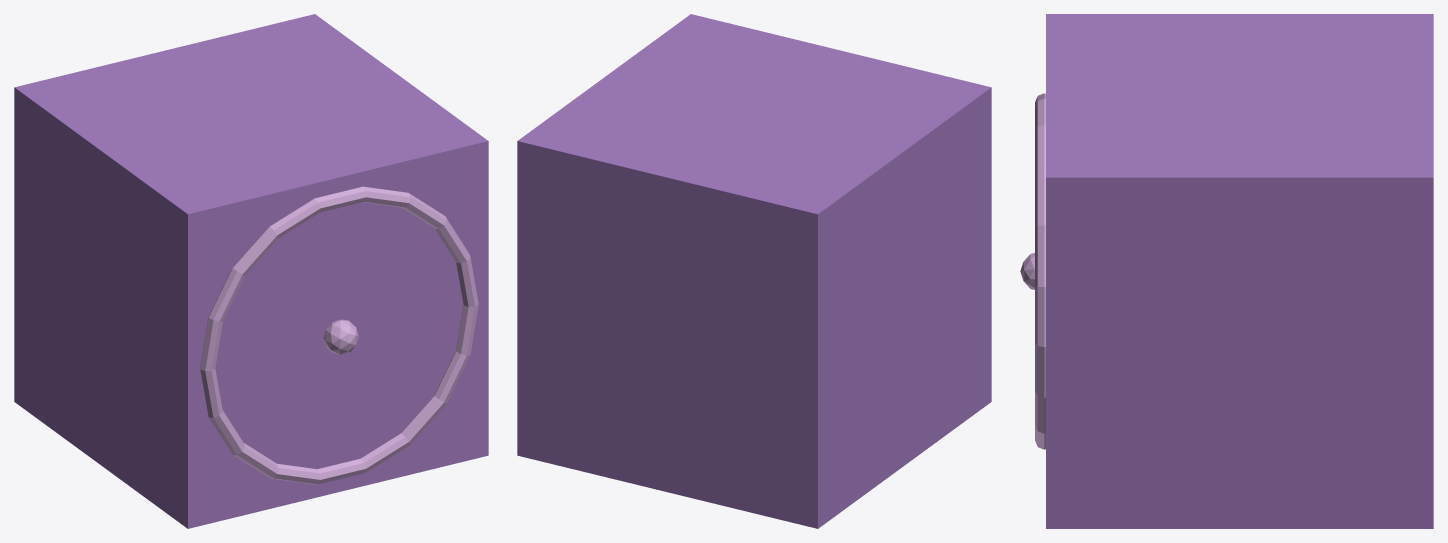
The model's file is doppel.glb.
The picture shows the model from 3 angles, left to right: view 1: azimuth 30°, elevation 25°; view 2: azimuth 150°, elevation 25°; view 3: azimuth 270°, elevation 25°; orthographic projection. The views are drawn at different scales.
Visible parts, largest first — view 1: world; view 2: world; view 3: world.
Part boxes in pixels (x1,y1,x2,y2): world: (14, 14, 488, 528); world: (517, 14, 991, 528); world: (1020, 14, 1433, 528).
Size of the model in its own units: 1.05 by 1.05 by 1.12.
